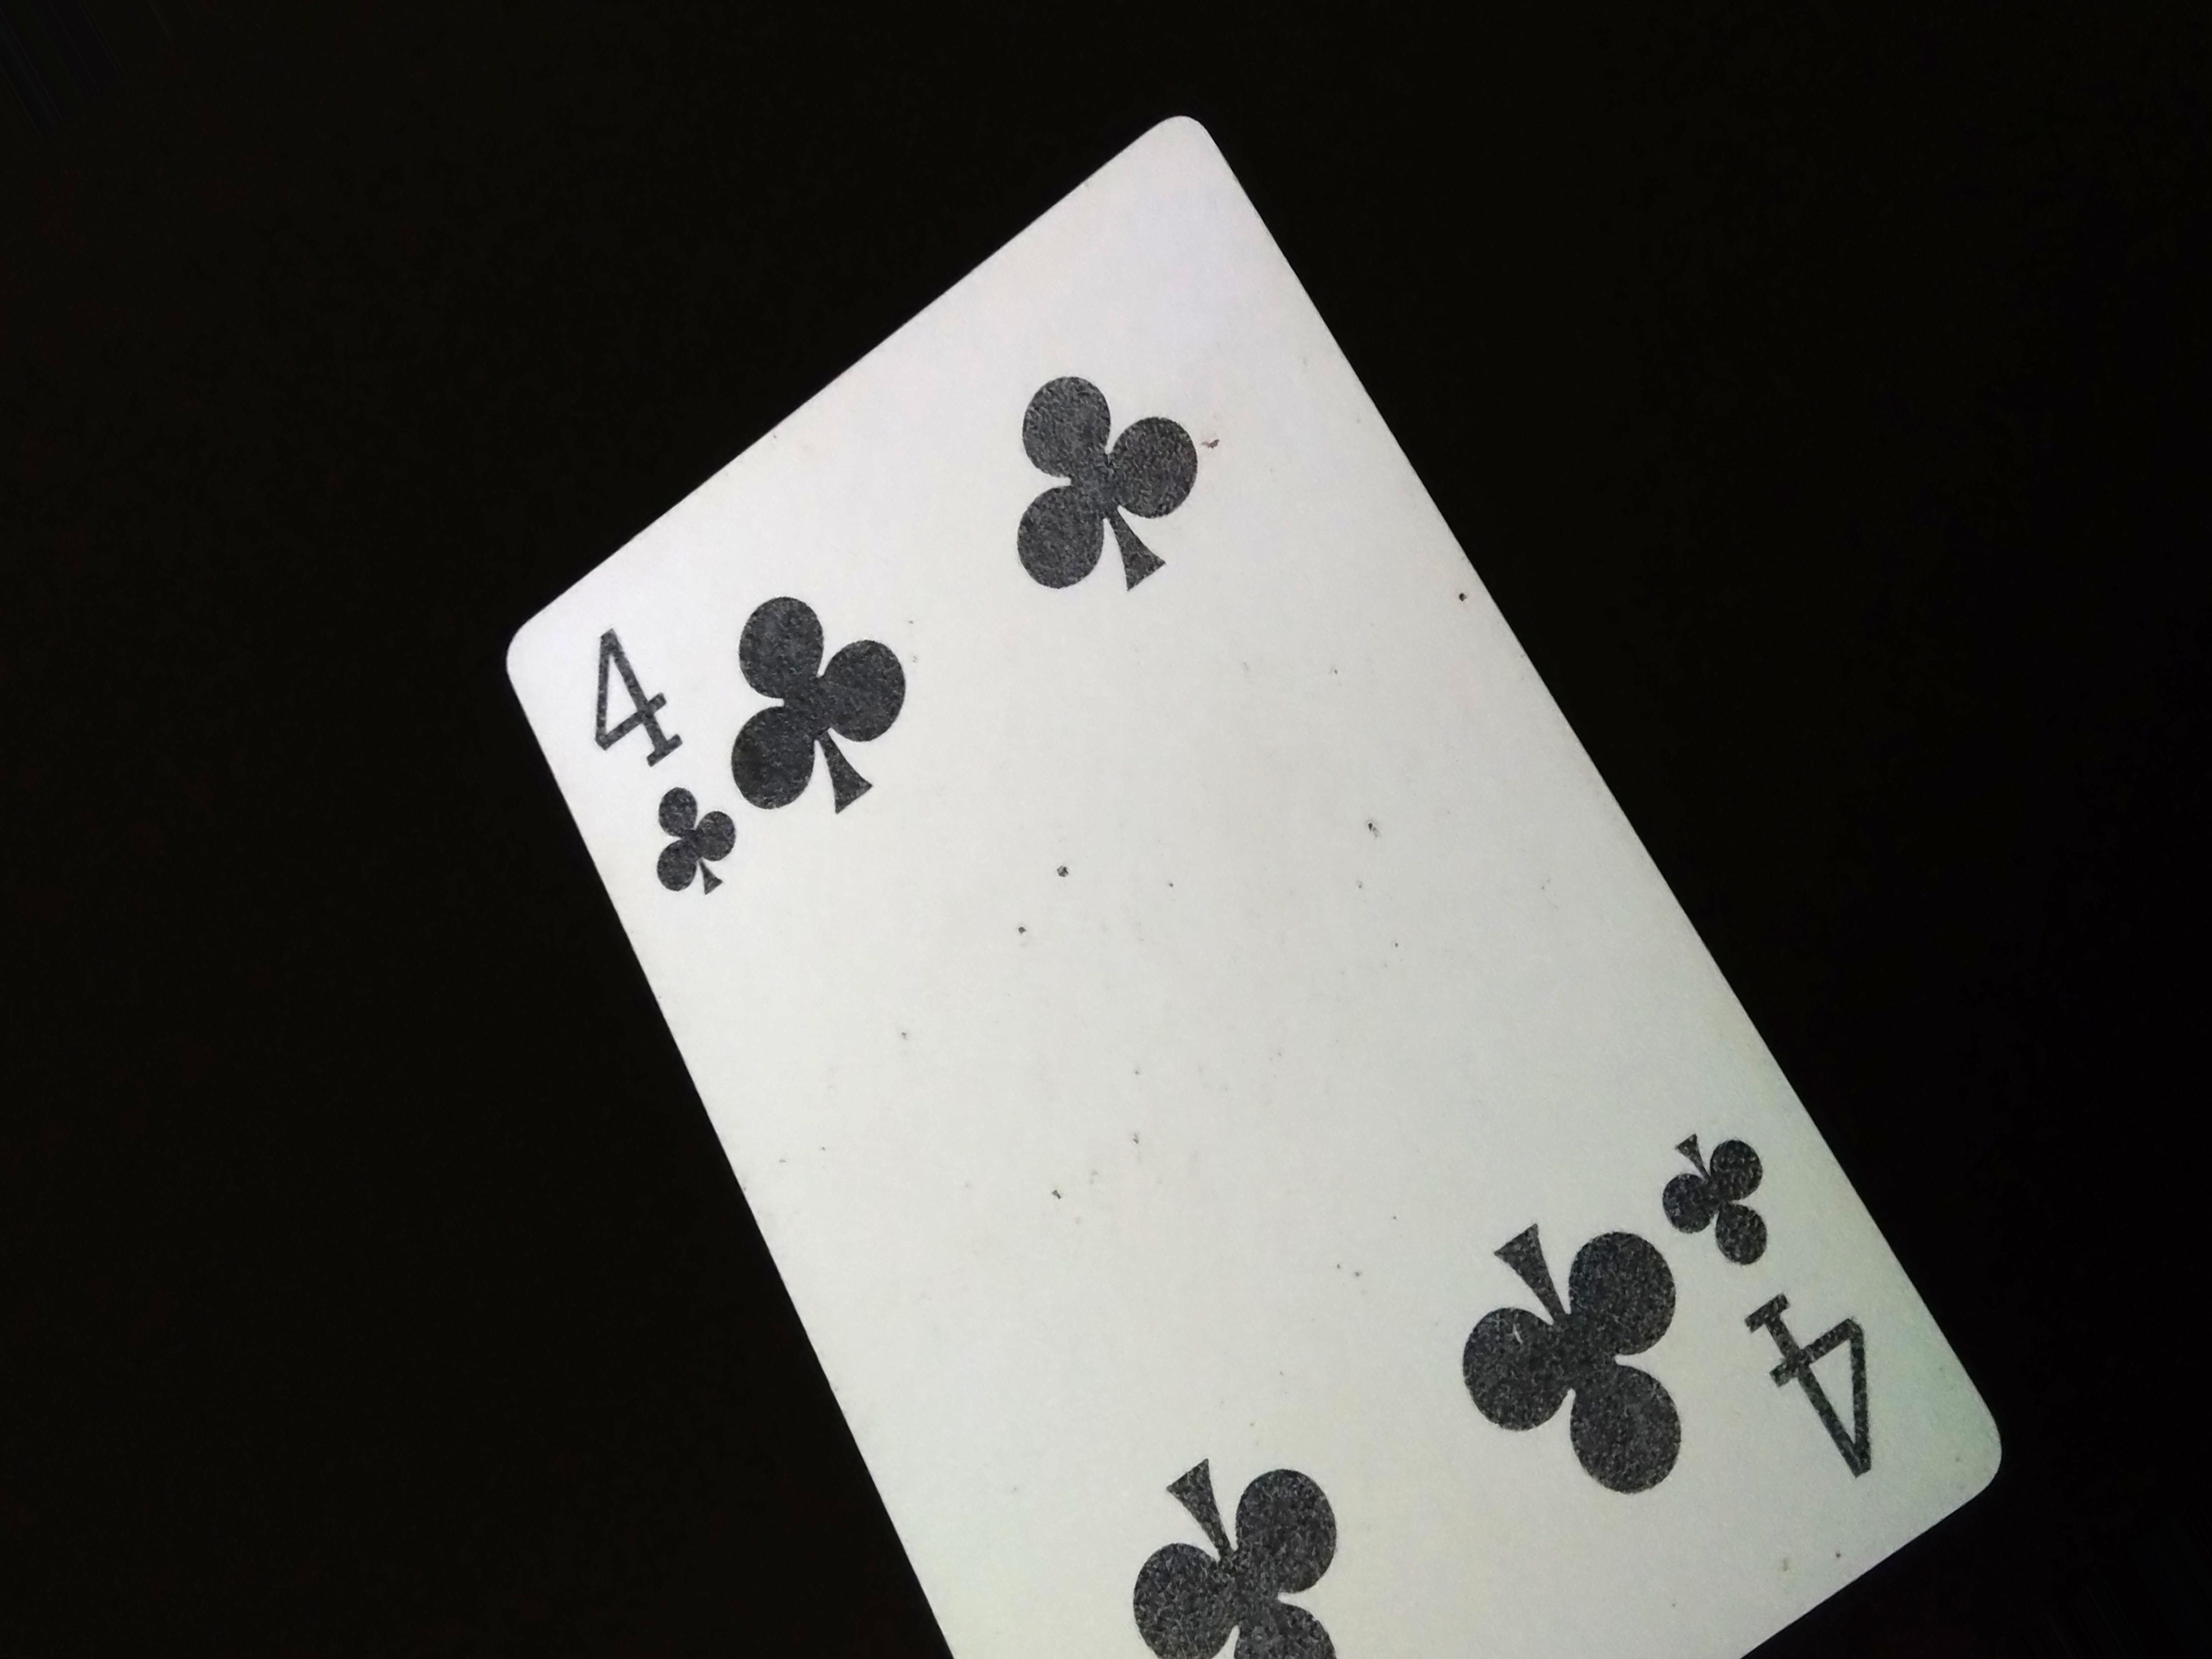4C: (573, 608, 758, 904)
